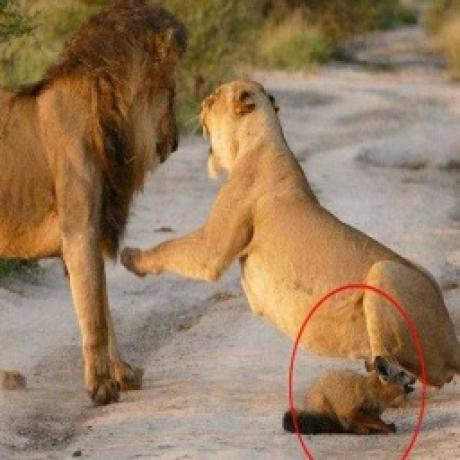Lion: (123, 78, 460, 387), (0, 0, 183, 406)
